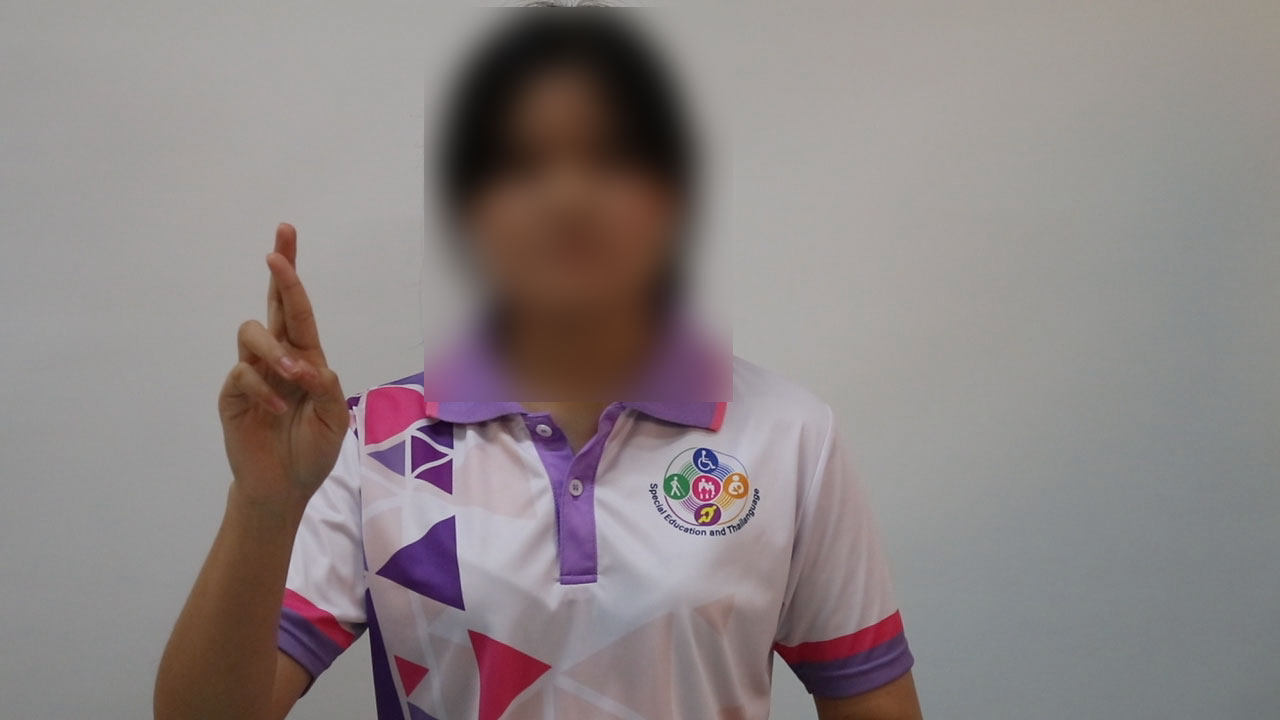rao: (192, 217, 352, 509)
